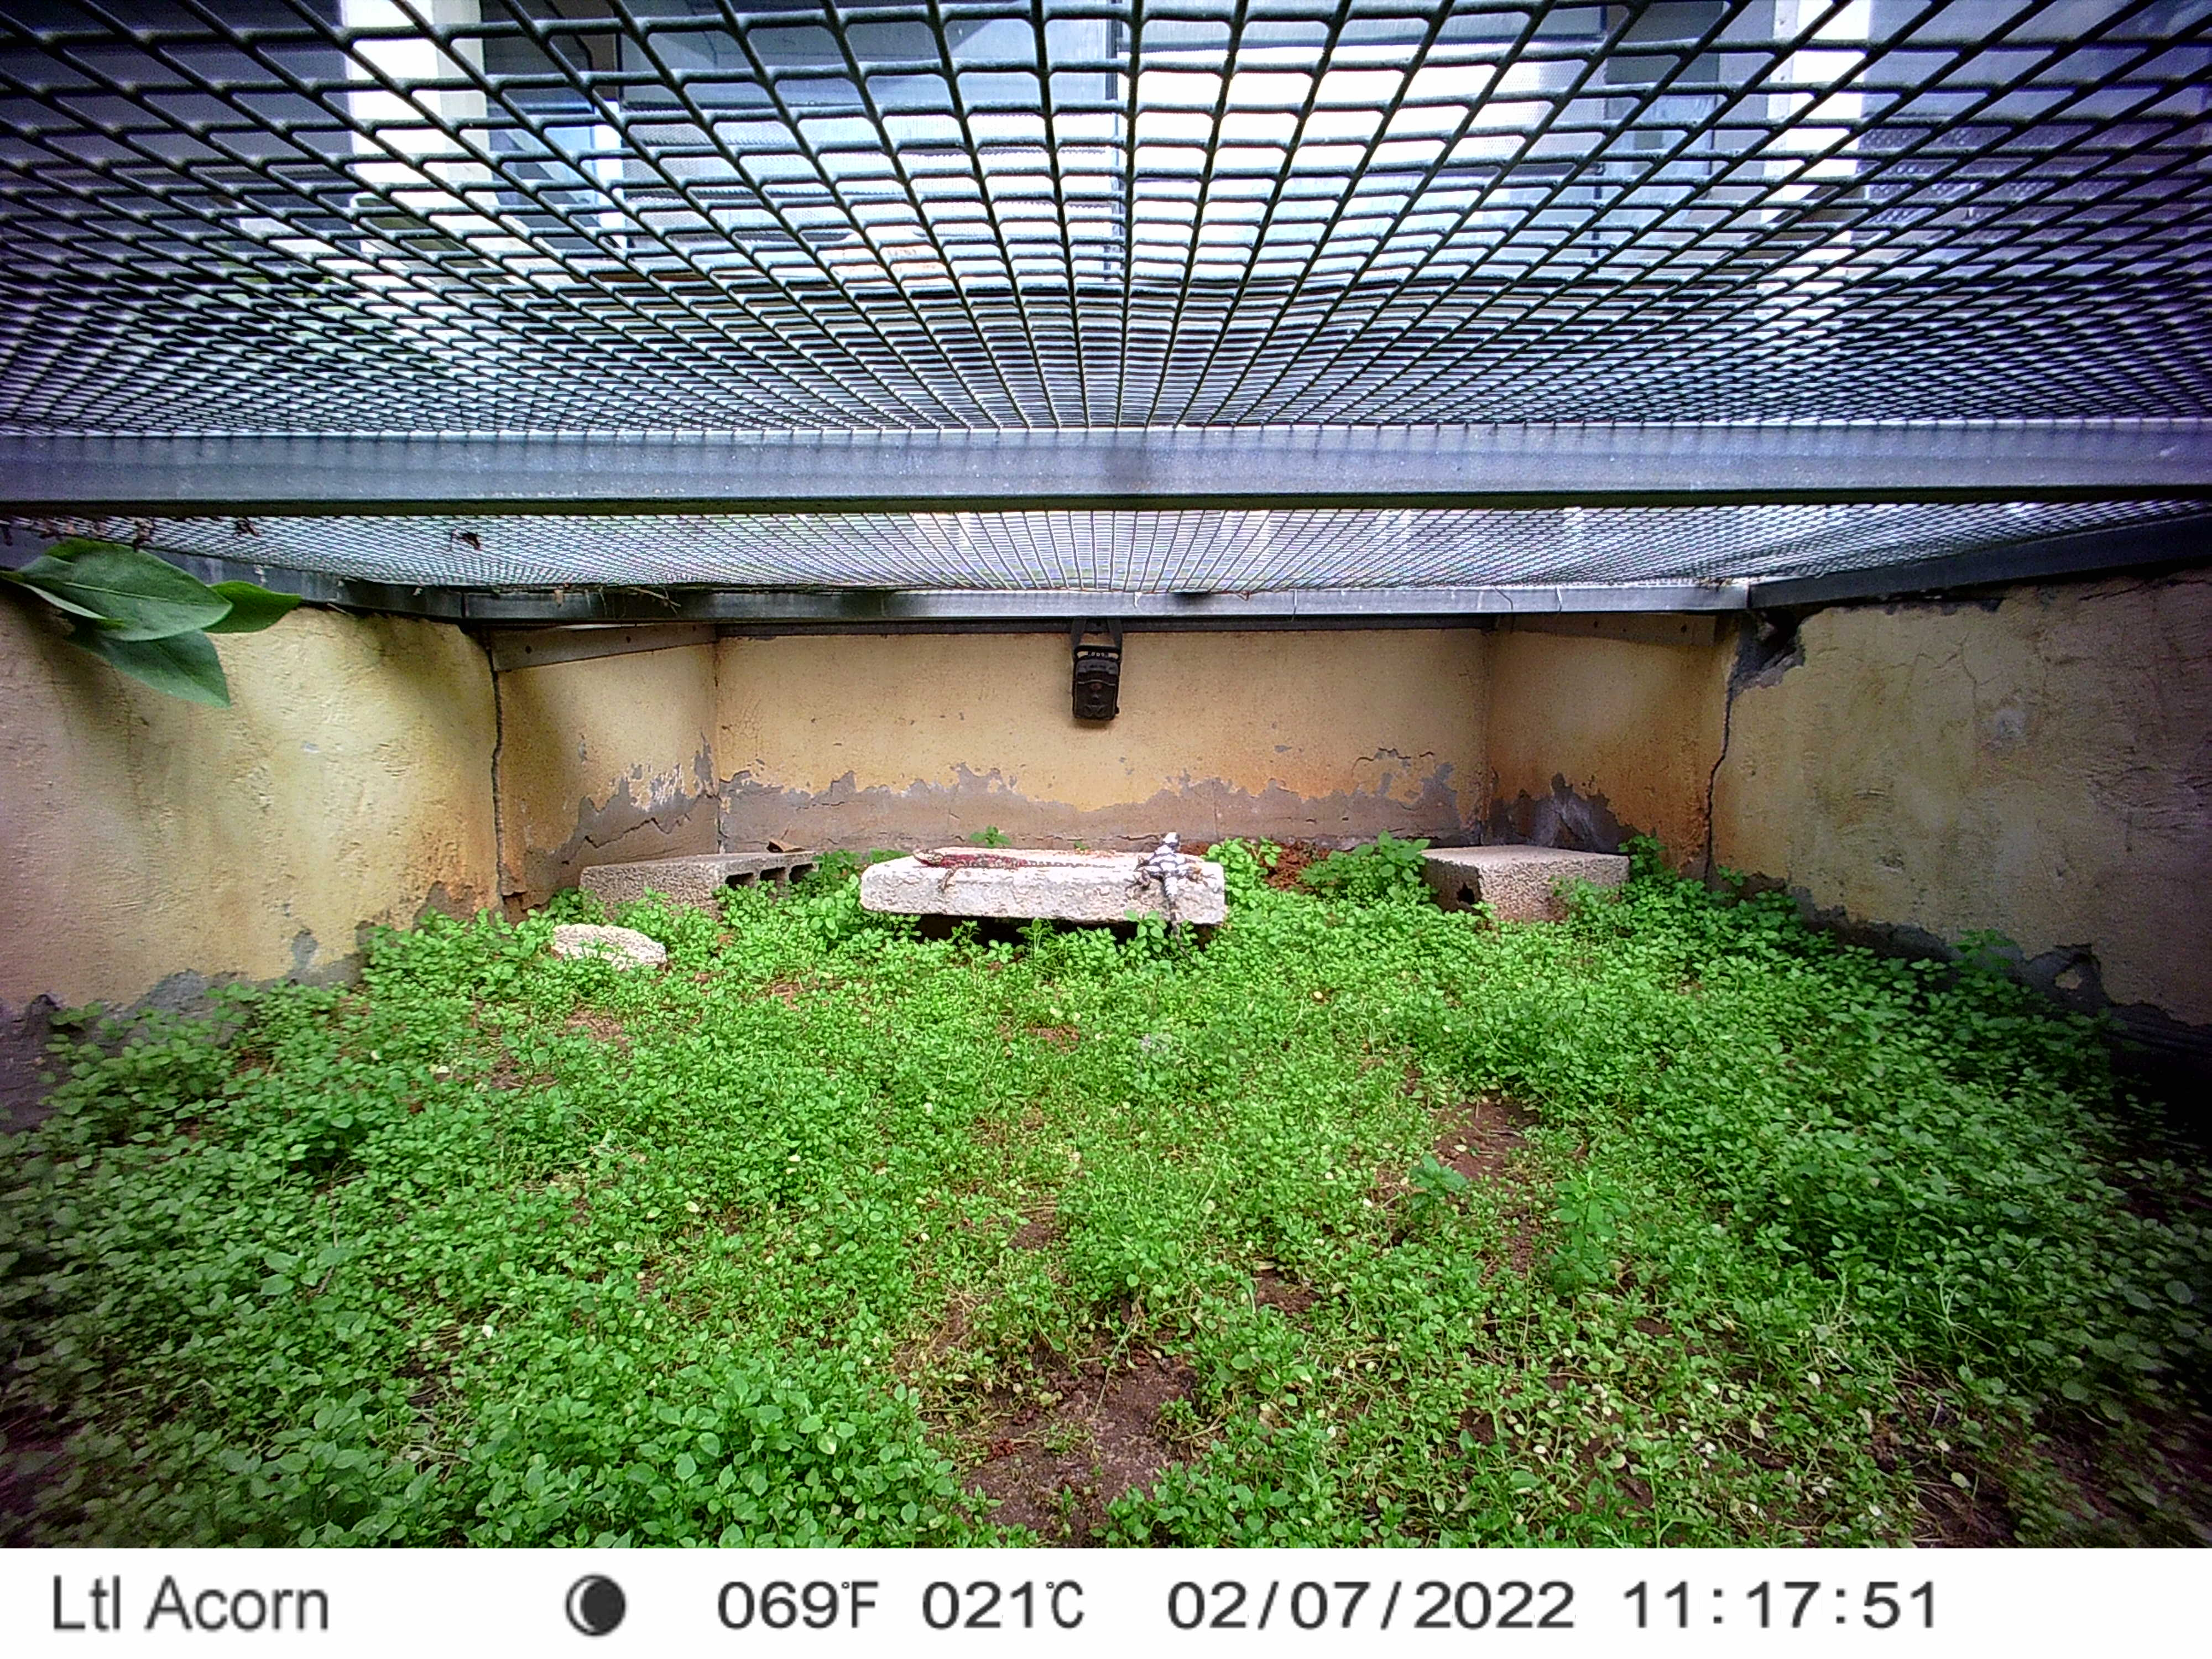lizard: (1127, 828, 1217, 953), (911, 845, 1123, 894)
